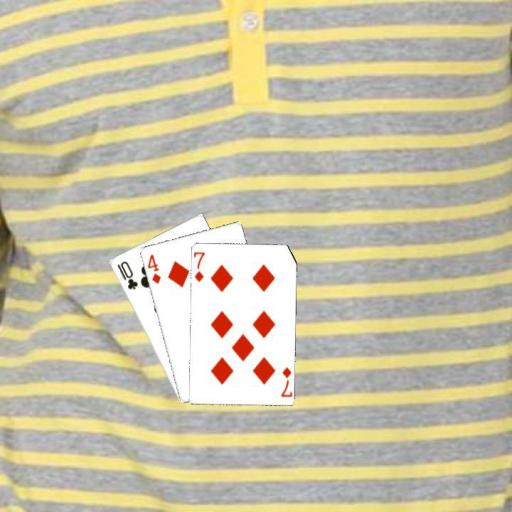10C: (114, 257, 139, 291)
4D: (144, 251, 162, 285)
7D: (192, 248, 207, 283), (278, 364, 292, 399)
